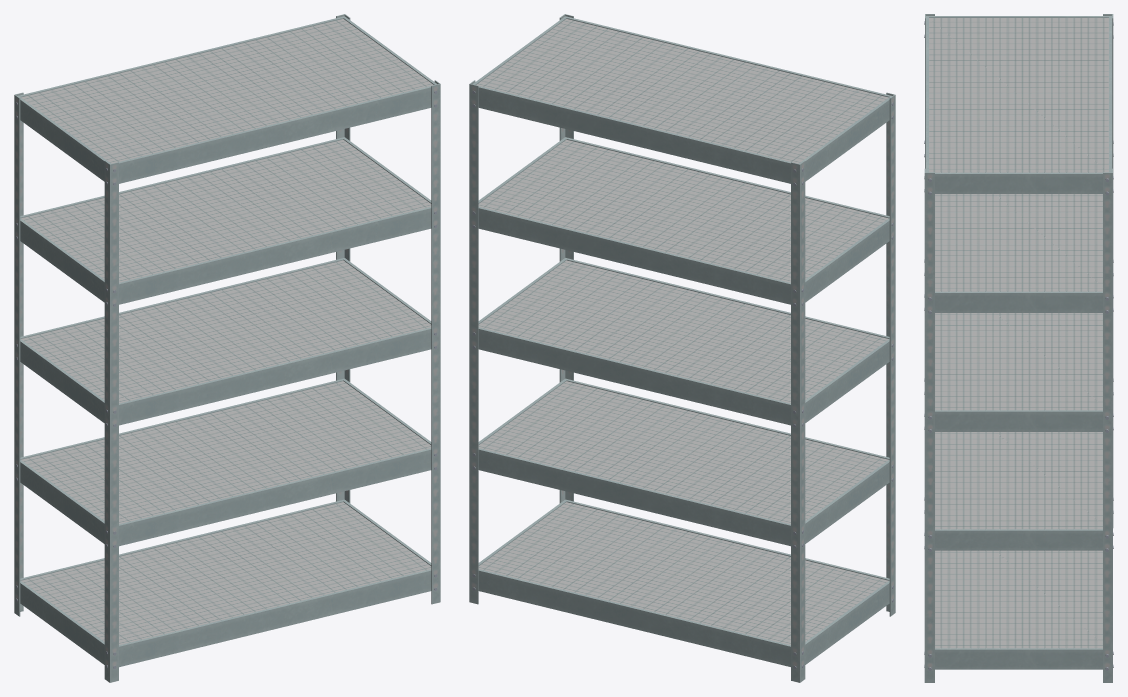
The model's file is FBX_Rack.fbx.
3 renders of one model, left to right at view 1: azimuth 30°, elevation 25°; view 2: azimuth 150°, elevation 25°; view 3: azimuth 270°, elevation 25°, orthographic.
Parts seen in each view (by area): view 1: SM_Rack; view 2: SM_Rack; view 3: SM_Rack.
Part boxes in pixels (box(x1,y1,x2,y2)): SM_Rack: box(14, 14, 440, 682); SM_Rack: box(469, 14, 895, 682); SM_Rack: box(924, 14, 1113, 682).
Size of the model in its own units: 1.23 by 1.83 by 0.6152.
